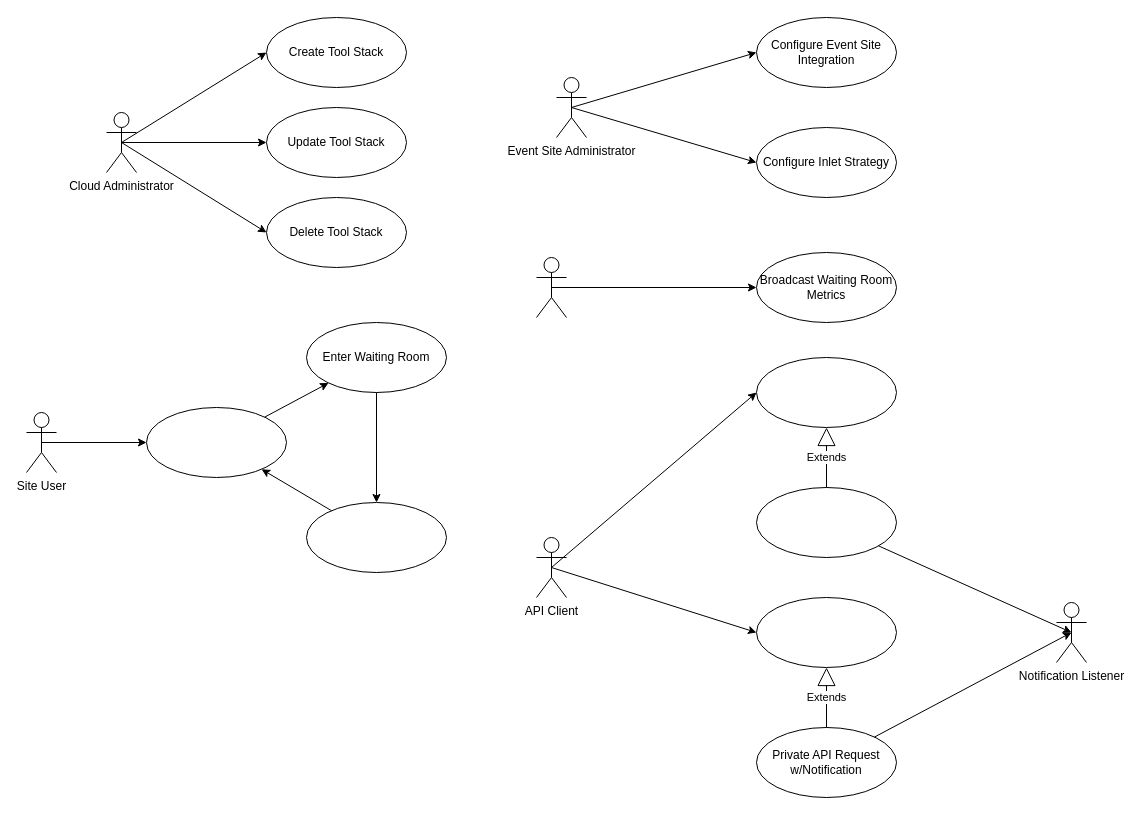
Some shapes in this 1141 by 815 pixel diagram are drawn without their labels. The shapes that lost their labels are listed below. From the top down, each one's box as (x1, y1, x2, y2) in pixels, then its label:
(536, 256, 566, 318): CloudWatch Scheduler
(756, 356, 896, 428): Public API Request
(146, 406, 286, 478): Visit Site
(306, 502, 446, 572): Progress Through Waiting Room
(756, 486, 896, 558): Public API Request w/Notification
(756, 596, 896, 668): Private API Request
